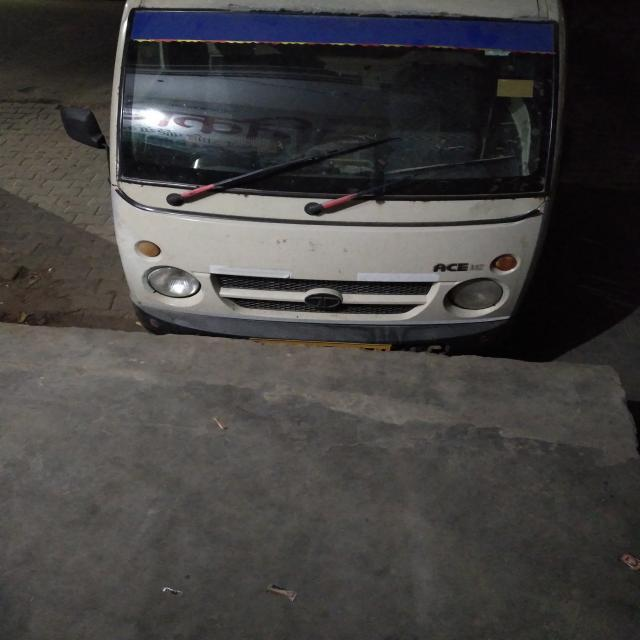truck_front: (54, 0, 582, 364)
